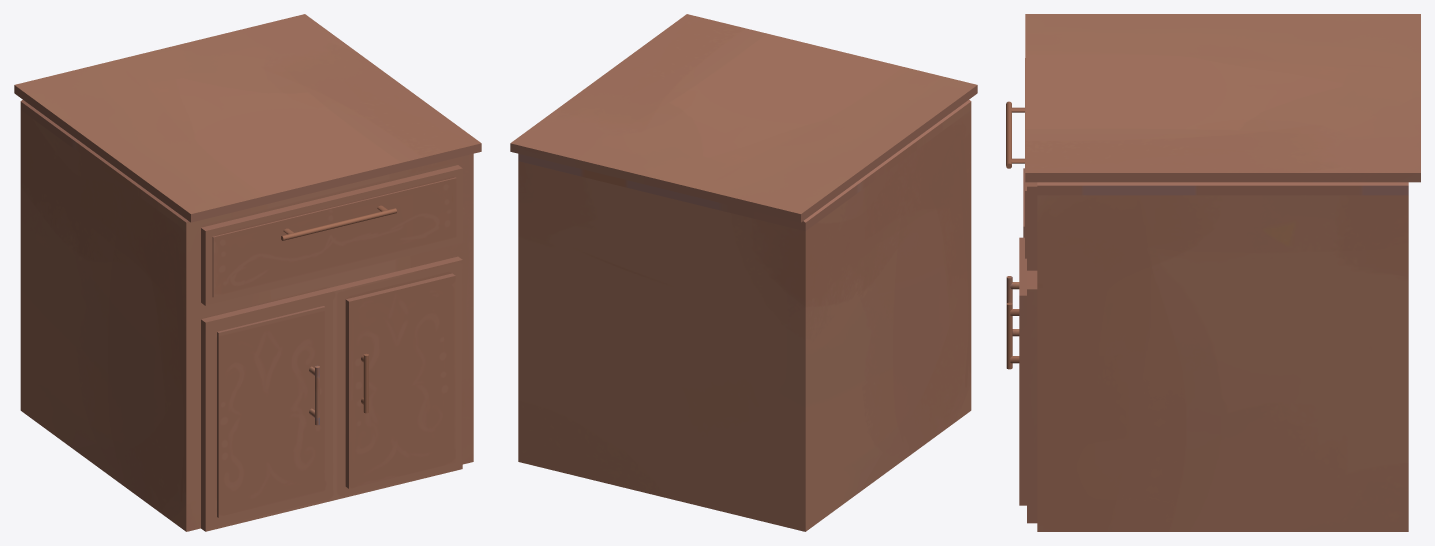
File: counter 2 shump asset.fbx
3 renders of one model, left to right at view 1: azimuth 30°, elevation 25°; view 2: azimuth 150°, elevation 25°; view 3: azimuth 270°, elevation 25°, orthographic. The views are drawn at different scales.
Parts seen in each view (by area): view 1: counter 2; view 2: counter 2; view 3: counter 2.
Boxes of the visible parts, box(x1,y1,x2,y2) form: counter 2: box(14, 14, 481, 531); counter 2: box(510, 14, 977, 531); counter 2: box(1006, 14, 1420, 531).
Bounding box in the file's own units: 202 × 214 × 223.
